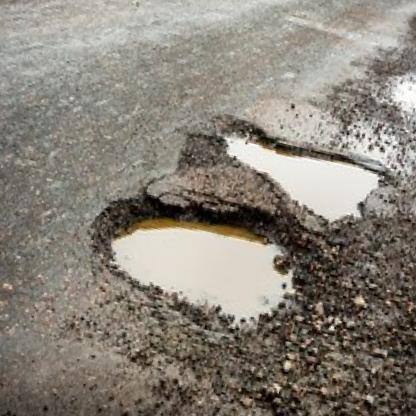pothole: (79, 175, 327, 346), (198, 110, 398, 236)
